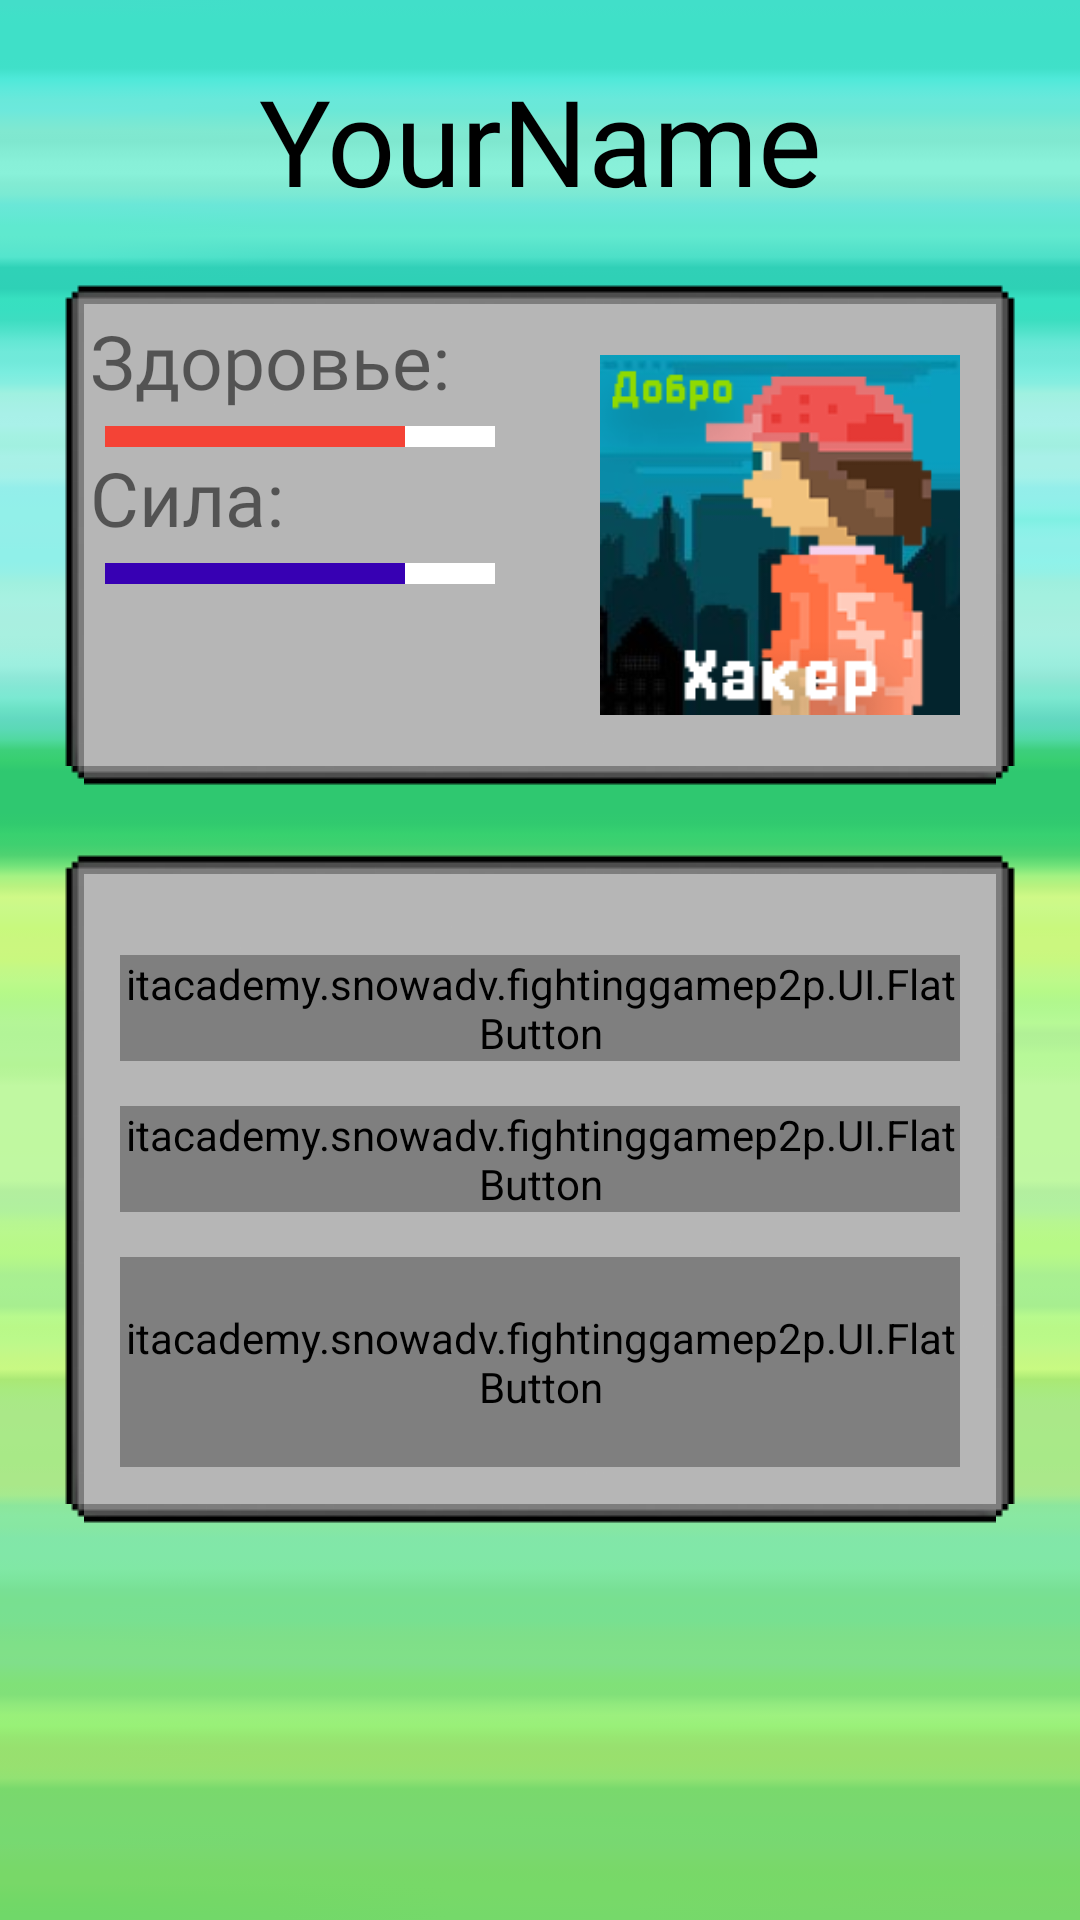

Icons on this 1080px×1920px Android screen, each with the point to tap as (x=x, y=y):
schoolboy: (x=780, y=535)
